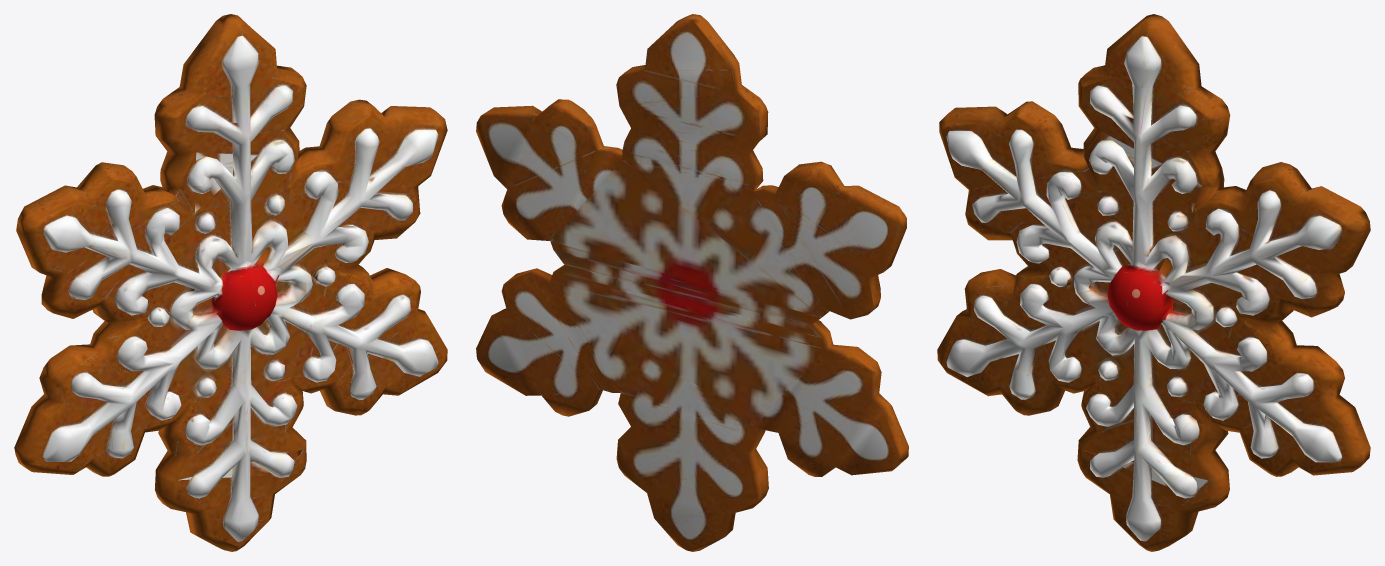
File: snowflake.glb
3 views of the same model, side by side, from view 1: azimuth 30°, elevation 25°; view 2: azimuth 150°, elevation 25°; view 3: azimuth 330°, elevation 25° (orthographic).
Size of the model in its own units: 0.7959 by 0.9502 by 0.0957.
Materials: 1 (1 with a texture image).
